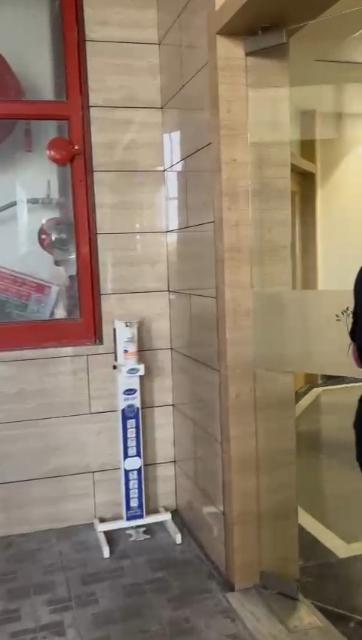floor: (3, 535, 297, 640)
wall: (88, 8, 220, 318), (0, 358, 103, 528), (147, 317, 222, 499)
